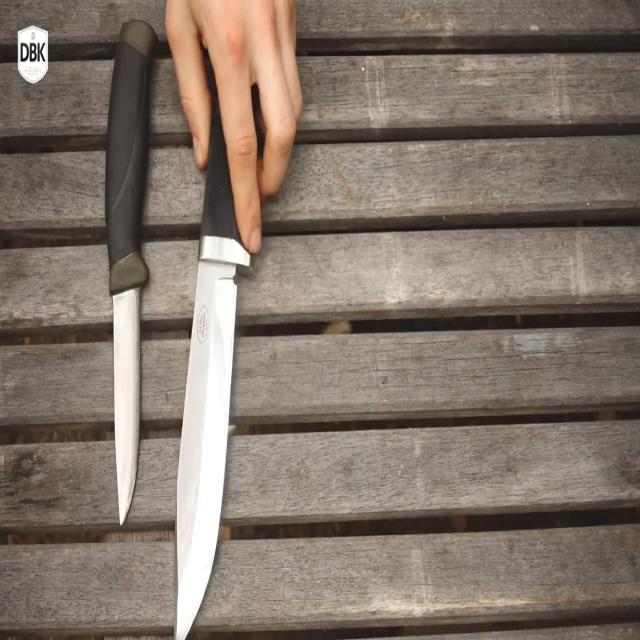knife: (173, 139, 251, 640), (104, 14, 166, 532)
